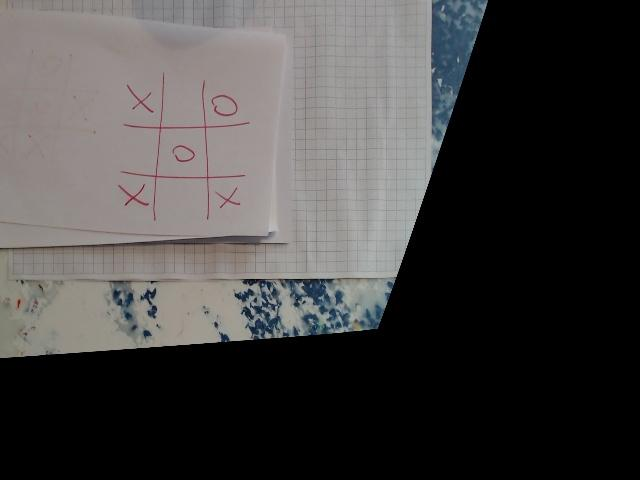O: (208, 91, 243, 120), (169, 141, 197, 166)
X: (124, 81, 155, 117), (121, 181, 149, 211), (210, 187, 242, 210)
grid: (119, 74, 248, 219)
